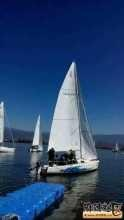fanchuan: (36, 57, 100, 176), (1, 100, 19, 153), (26, 115, 47, 155)
